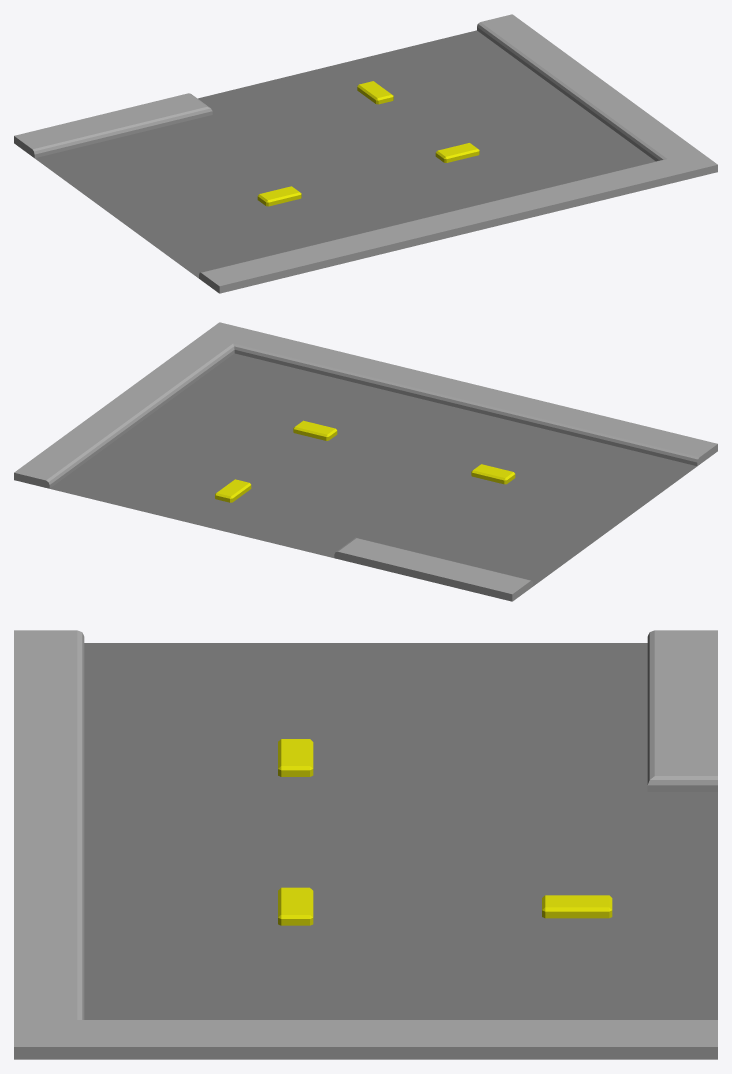
The model's file is RightTurnRoad.fbx.
The picture shows the model from 3 angles, top to bottom: view 1: azimuth 30°, elevation 25°; view 2: azimuth 150°, elevation 25°; view 3: azimuth 270°, elevation 25°; orthographic projection. The views are drawn at different scales.
Parts seen in each view (by area): view 1: pCube89; view 2: pCube89; view 3: pCube89.
Boxes of the visible parts, left/top/right/bottom form: pCube89: left=14, top=14, right=717, bottom=293; pCube89: left=14, top=322, right=717, bottom=601; pCube89: left=14, top=630, right=717, bottom=1059.
Bounding box in the file's own units: 14 × 0.35 × 10.
